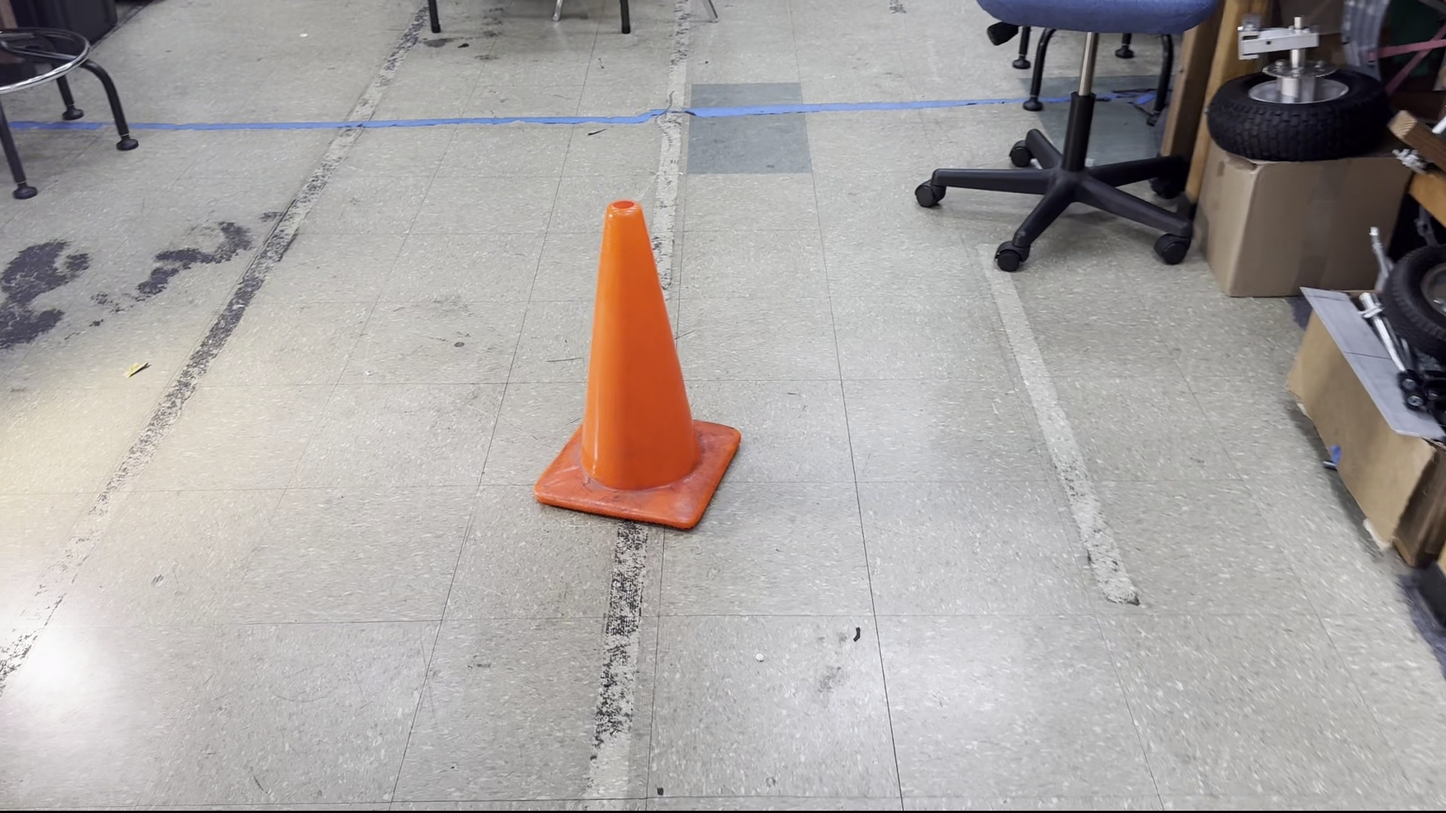traffic_cone: (533, 198, 742, 531)
